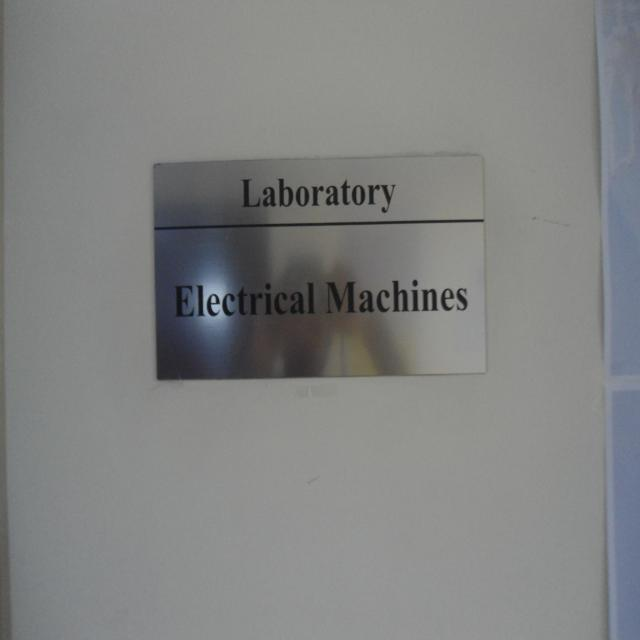sign: (143, 153, 496, 379)
